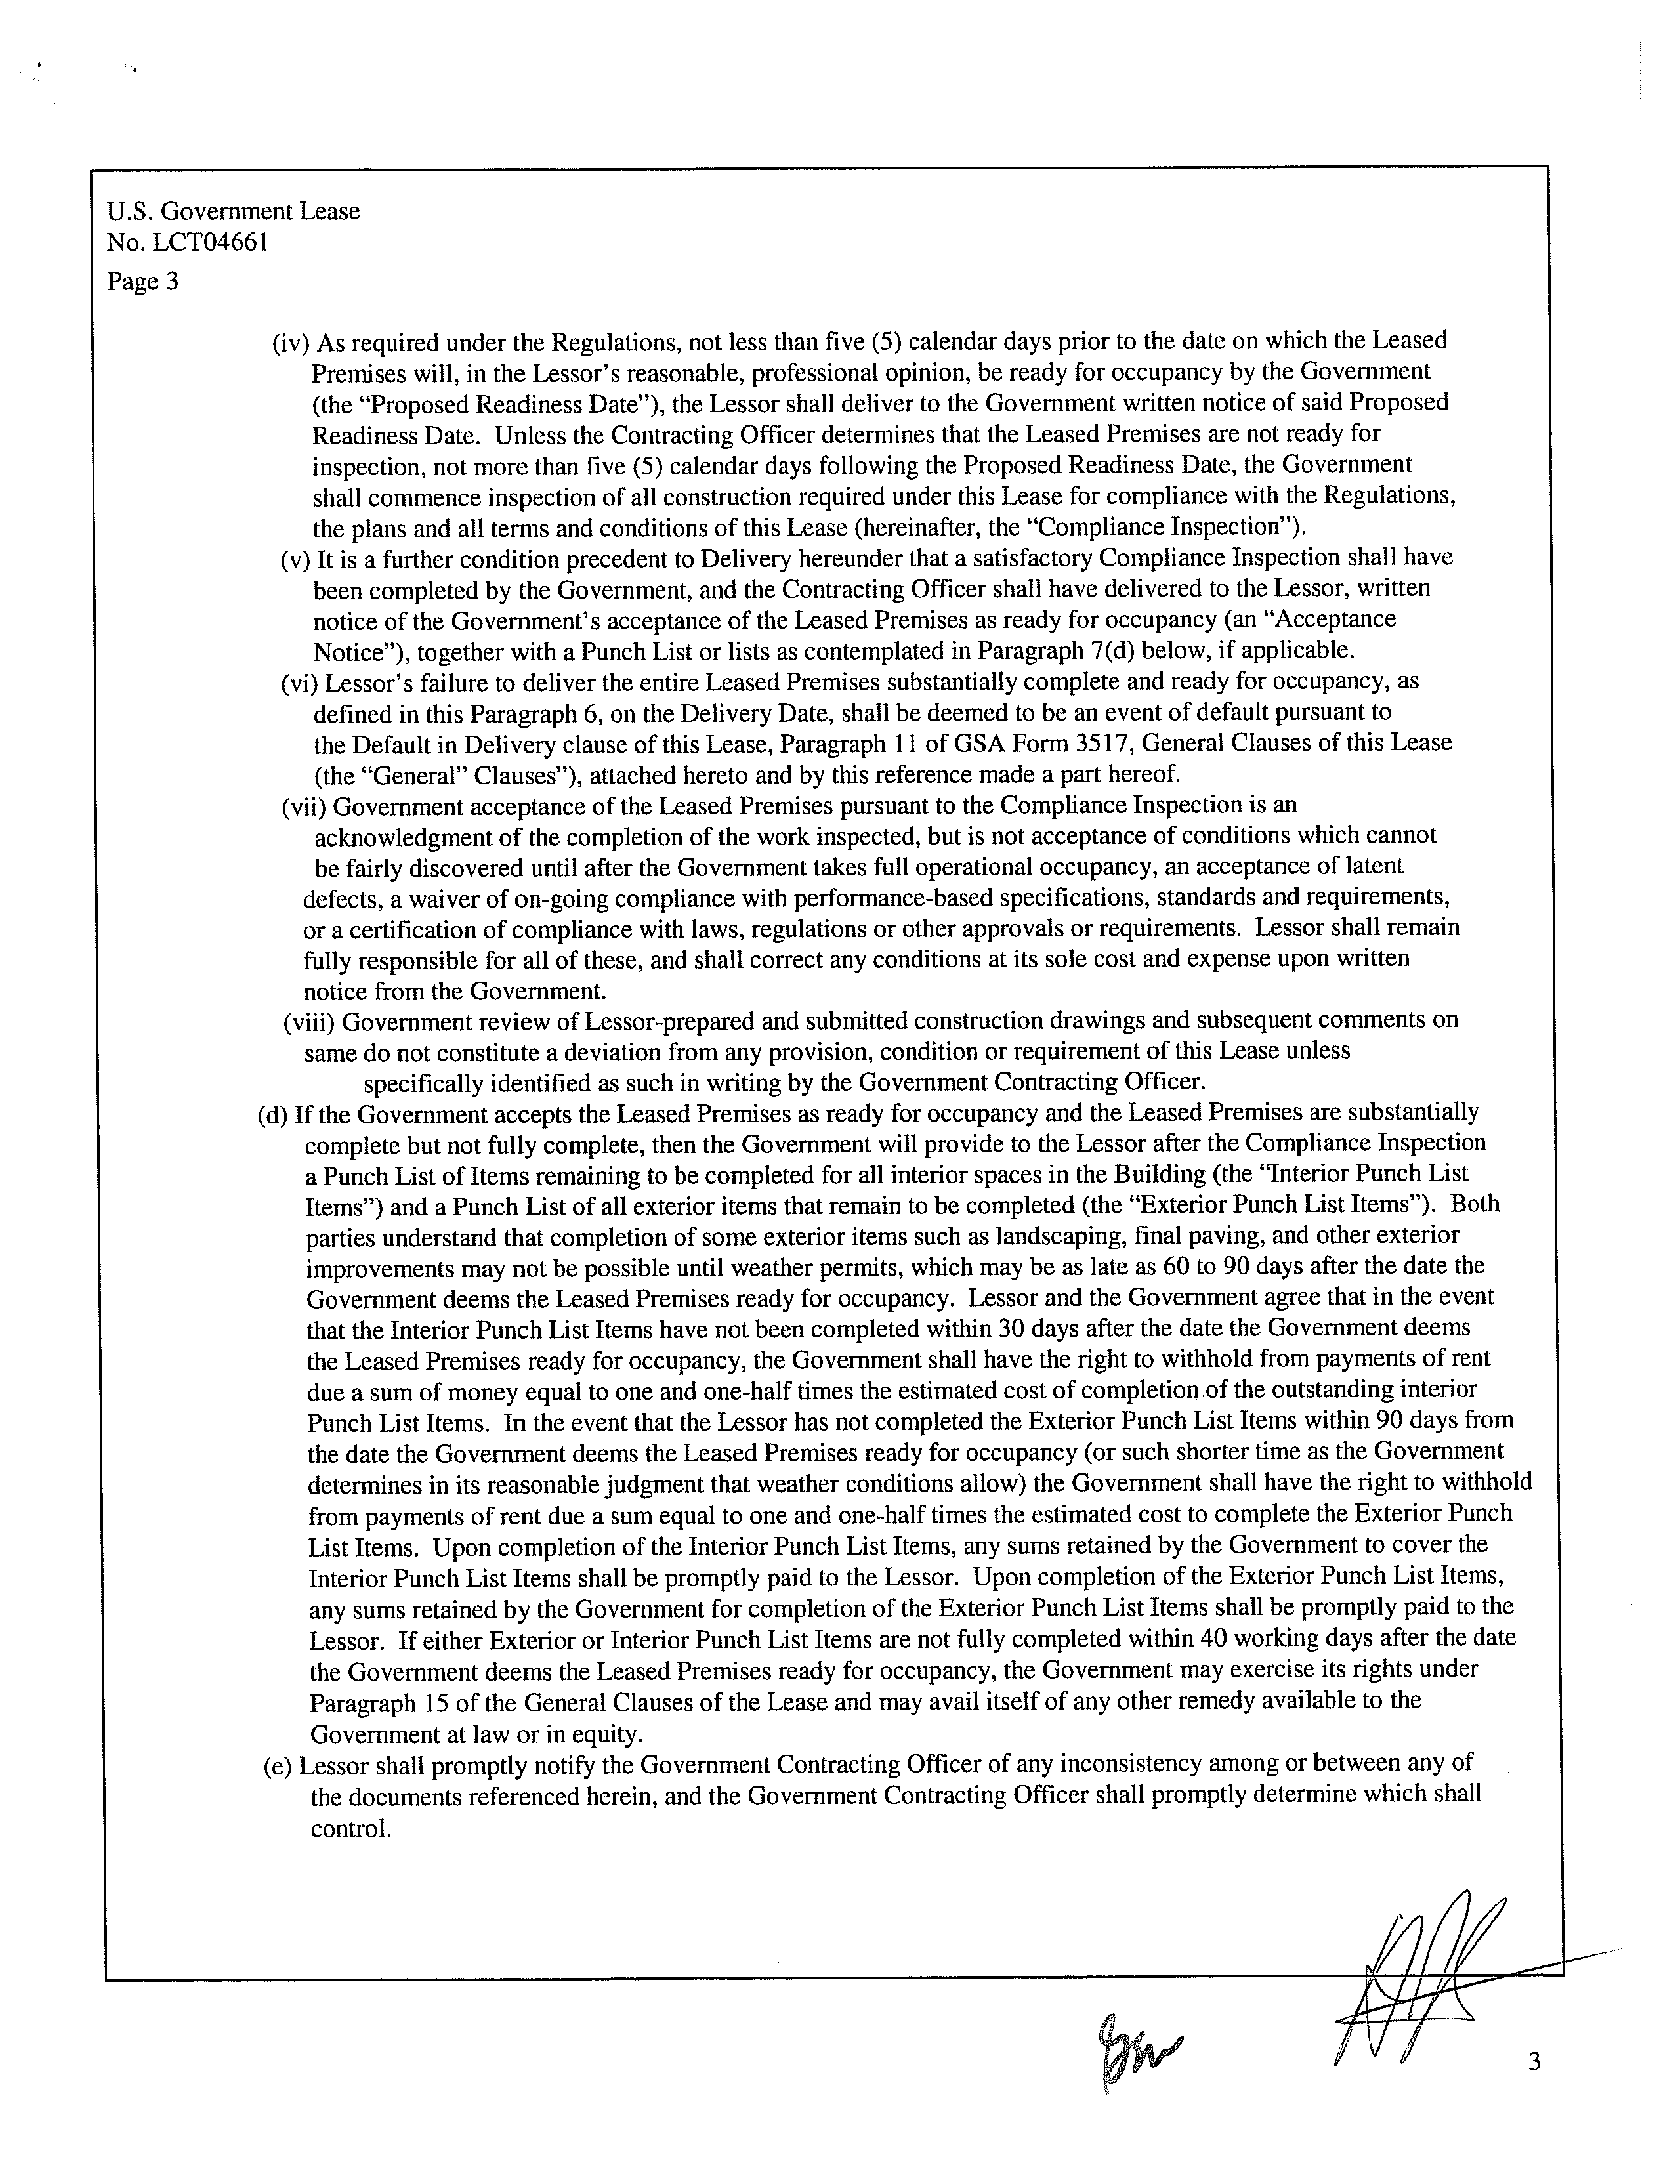handwritten: (1332, 1868, 1622, 2071), (1057, 2018, 1196, 2098)
